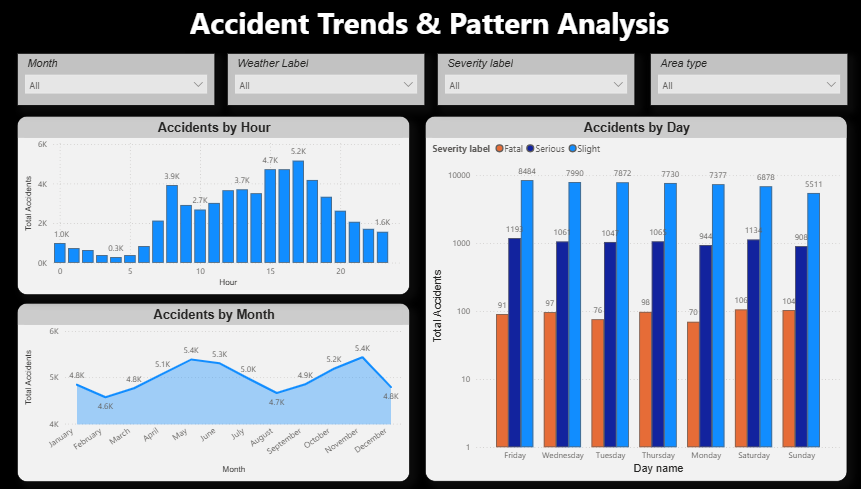

Layout of this report page (visuals, bound fields, positions):
{"tool":"powerbi","page":{"name":"Time Trends","canvas":[1280,720],"ordinal":1},"visuals":[{"type":"lineChart","title":" Accidents by Month","fields":{"Y":["Accident Data Analysis.Total Accidents"],"Category":["Accident Data Analysis.Date.Variation.Date Hierarchy.Month"]},"box":[30,446.7,575,261.7],"z":0},{"type":"clusteredColumnChart","title":" Accidents by Hour","fields":{"Category":["Accident Data Analysis.Hour"],"Y":["Accident Data Analysis.Total Accidents"]},"box":[30,173.3,575,261.7],"z":1000},{"type":"clusteredColumnChart","title":" Accidents by Day","fields":{"Category":["Accident Data Analysis.Day_Name"],"Y":["Accident Data Analysis.Total Accidents"],"Series":["Accident Data Analysis.severity_label"]},"box":[628.3,173.3,618.3,535],"z":2000},{"type":"slicer","fields":{"Values":["Accident Data Analysis.severity_label"]},"box":[645,80,290,76.7],"z":3000},{"type":"slicer","fields":{"Values":["Accident Data Analysis.Area_type"]},"box":[956.7,80,290,76.7],"z":4000},{"type":"slicer","fields":{"Values":["Accident Data Analysis.Weather_Label"]},"box":[338.3,80,290,76.7],"z":5000},{"type":"slicer","fields":{"Values":["Accident Data Analysis.Date.Variation.Date Hierarchy.Month"]},"box":[30,80,290,76.7],"z":6000},{"type":"textbox","box":[276.7,0,736.7,80],"z":7000}]}

Visuals, with their boxes in screenshot pixels (x1, y1, x2, y2), scaled from the page's 1280x720 canvas onto the 861x489 screenshot:
" Accidents by Month" lineChart: pyautogui.locateOnScreen(20, 303, 407, 481)
" Accidents by Hour" clusteredColumnChart: pyautogui.locateOnScreen(20, 118, 407, 295)
" Accidents by Day" clusteredColumnChart: pyautogui.locateOnScreen(423, 118, 839, 481)
slicer - Accident Data Analysis.severity_label: pyautogui.locateOnScreen(434, 54, 629, 106)
slicer - Accident Data Analysis.Area_type: pyautogui.locateOnScreen(644, 54, 839, 106)
slicer - Accident Data Analysis.Weather_Label: pyautogui.locateOnScreen(228, 54, 423, 106)
slicer - Accident Data Analysis.Date.Variation.Date Hierarchy.Month: pyautogui.locateOnScreen(20, 54, 215, 106)
textbox: pyautogui.locateOnScreen(186, 0, 682, 54)
